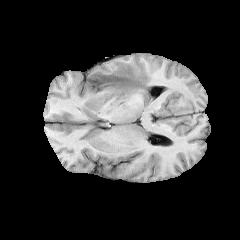glioma: (90, 60, 159, 100)
